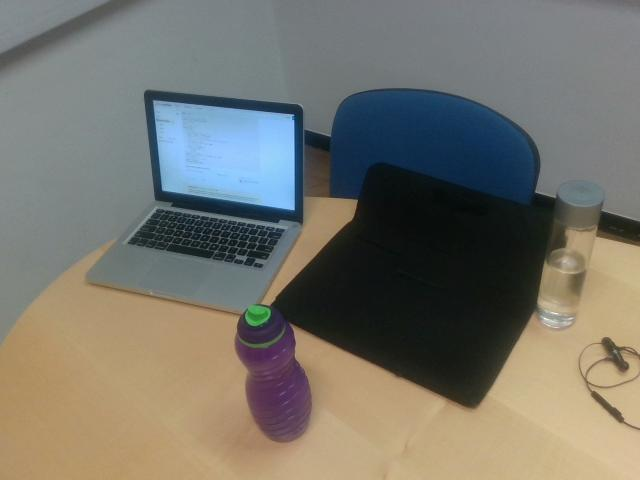bottle: (234, 302, 313, 442)
